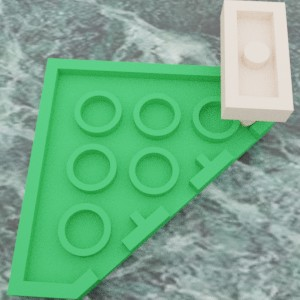lego: (6, 58, 276, 299), (220, 0, 293, 126)
